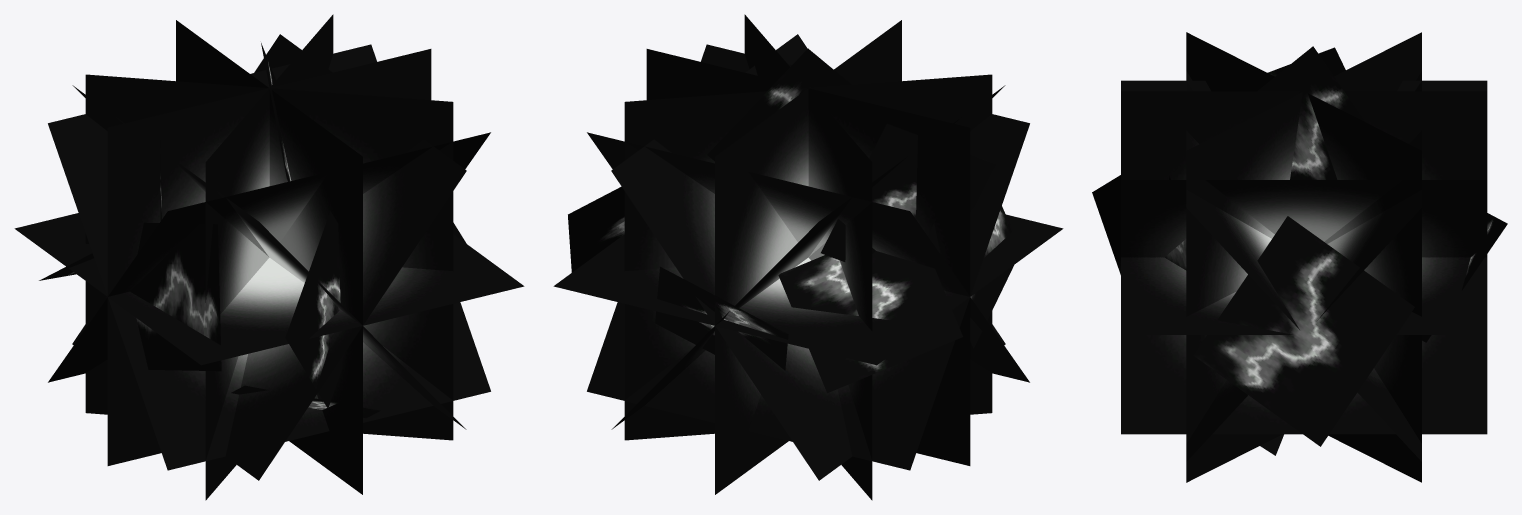
File: lightning_orb.dae
3 renders of one model, left to right at view 1: azimuth 30°, elevation 25°; view 2: azimuth 150°, elevation 25°; view 3: azimuth 270°, elevation 25°, orthographic.
Parts seen in each view (by area): view 1: Plane.004_12, Plane.002_10, Plane.006_14, Plane.003_11, Plane.008_16, Plane.001_9, Plane.005_13, Plane.007_15, Plane.011_2, Plane.014_5, Plane.009_17, Plane_0; view 2: Plane.005_13, Plane.003_11, Plane.007_15, Plane.002_10, Plane.008_16, Plane.001_9, Plane.015_6, Plane.006_14, Plane.004_12, Plane.016_7, Plane.012_3, Plane_0 (+3 smaller); view 3: Plane.010_1, Plane.004_12, Plane.009_17, Plane.003_11, Plane.005_13, Plane.008_16, Plane.001_9, Plane.007_15, Plane_0, Plane.006_14, Plane.014_5, Plane.012_3 (+1 smaller).
Part boxes in pixels (x1,y1,x2,y2): Plane.004_12: (85,74,453,440); Plane.002_10: (107,49,431,465); Plane.006_14: (48,44,490,470); Plane.003_11: (176,20,362,494); Plane.008_16: (72,34,466,480); Plane.001_9: (14,213,524,365); Plane.005_13: (205,14,333,500); Plane.007_15: (48,132,490,382); Plane.011_2: (130,222,221,371); Plane.014_5: (285,211,342,408); Plane.009_17: (72,85,466,429); Plane_0: (261,43,291,181); Plane.005_13: (624,74,992,440); Plane.003_11: (715,20,901,494); Plane.007_15: (587,44,1029,470); Plane.002_10: (646,49,970,465); Plane.008_16: (611,34,1005,480); Plane.001_9: (553,214,1063,365); Plane.015_6: (778,251,962,393); Plane.006_14: (587,132,1029,382); Plane.004_12: (744,14,872,500); Plane.016_7: (821,123,995,261); Plane.012_3: (655,266,788,370); Plane_0: (707,48,851,161); Plane.010_1: (1193,216,1414,446); Plane.004_12: (1186,32,1421,482); Plane.009_17: (1121,80,1487,434); Plane.003_11: (1121,91,1487,179); Plane.005_13: (1186,32,1421,482); Plane.008_16: (1121,180,1487,257); Plane.001_9: (1121,257,1487,334); Plane.007_15: (1186,71,1421,461); Plane_0: (1257,46,1365,179); Plane.006_14: (1186,71,1421,461); Plane.014_5: (1092,175,1186,274); Plane.012_3: (1422,213,1507,342).
Size of the model in its own units: 1.05 by 0.9215 by 0.9468.
Materials: 2 (2 with a texture image).
